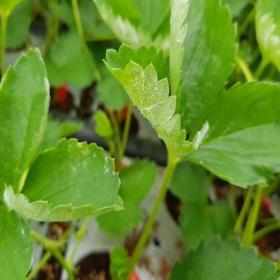Powdery Mildew Leaf: (101, 42, 210, 160), (183, 80, 279, 189), (3, 138, 126, 221)
